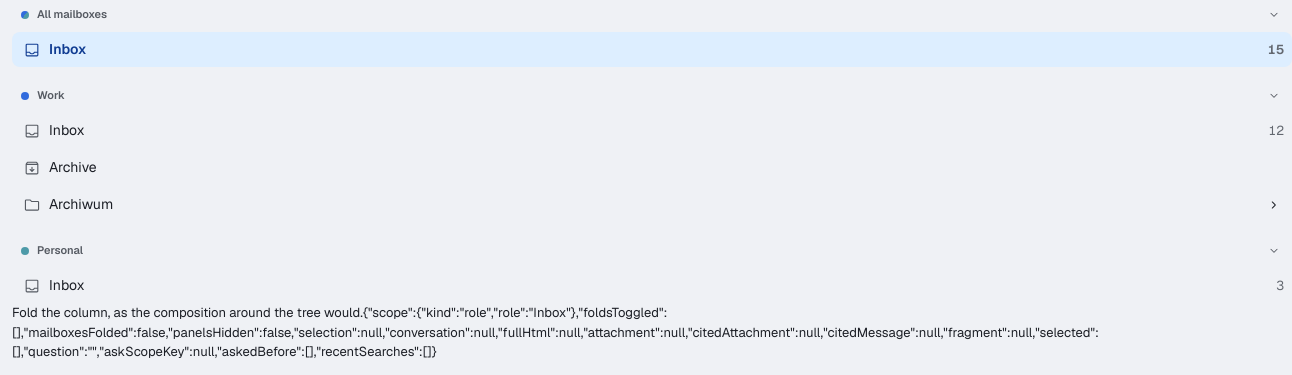
Test: FolderTree › opens and shuts a row with the pointer as well
The image size is (1292, 375).
Click the element named "Collapse subfolders" in the row of "Work": (1274, 96) x1=1266 y1=88 x2=1282 y2=104
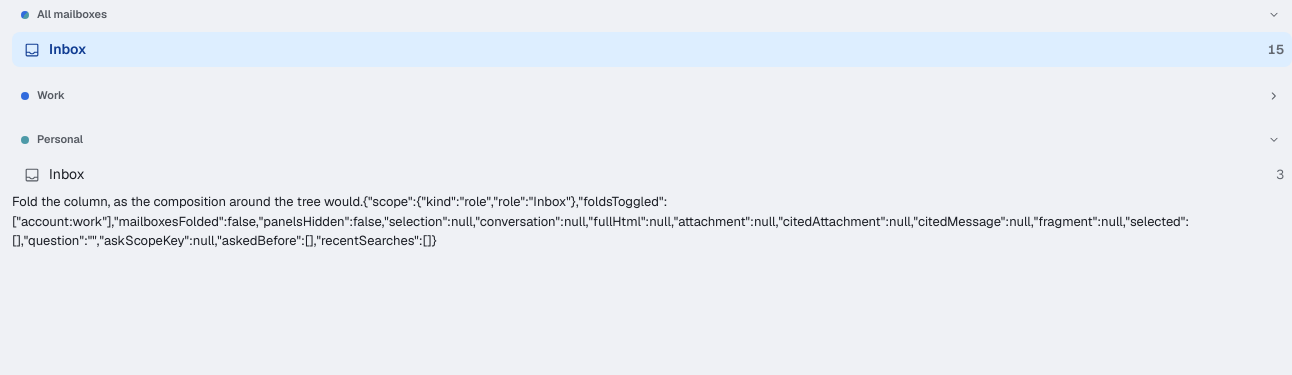
expect the list item "Work" is collapsed: met, box x1=21 y1=88 x2=1282 y2=104
